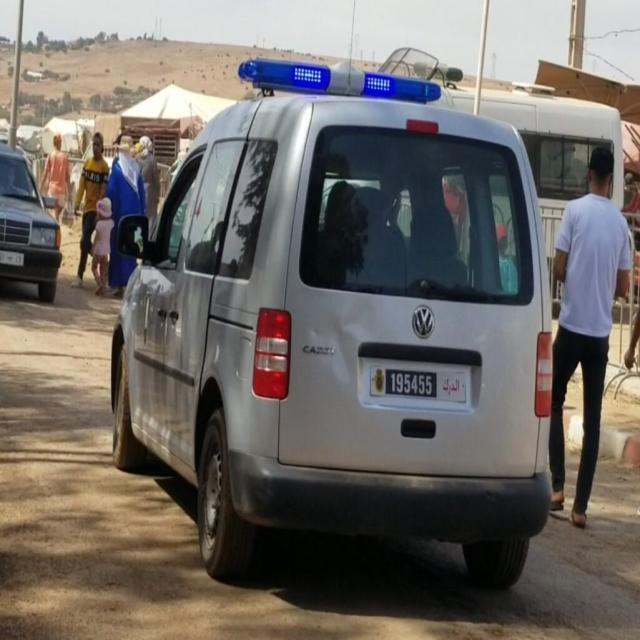Police car: (0, 140, 62, 302)
gendarme car: (108, 55, 555, 589)
